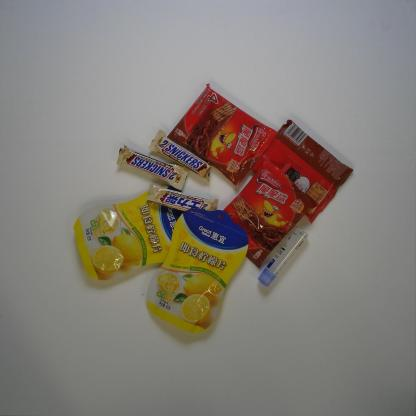Chocolate: (116, 144, 189, 191), (148, 129, 211, 183), (146, 183, 219, 219)
Dessert: (167, 83, 278, 186), (217, 160, 317, 270), (250, 119, 354, 224)
Dried Fruit: (146, 207, 248, 337), (73, 185, 210, 281)
Stationery: (256, 226, 309, 287)
